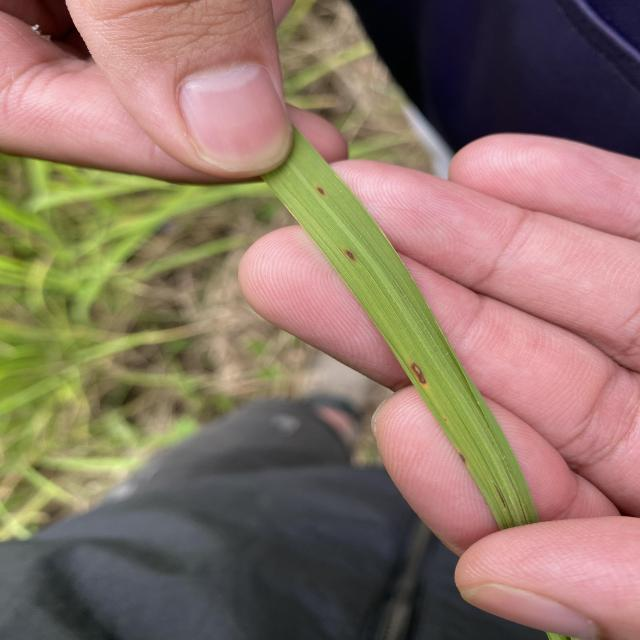Dom nau: (408, 362, 428, 385), (344, 249, 357, 261), (316, 187, 326, 196), (459, 454, 466, 463)
